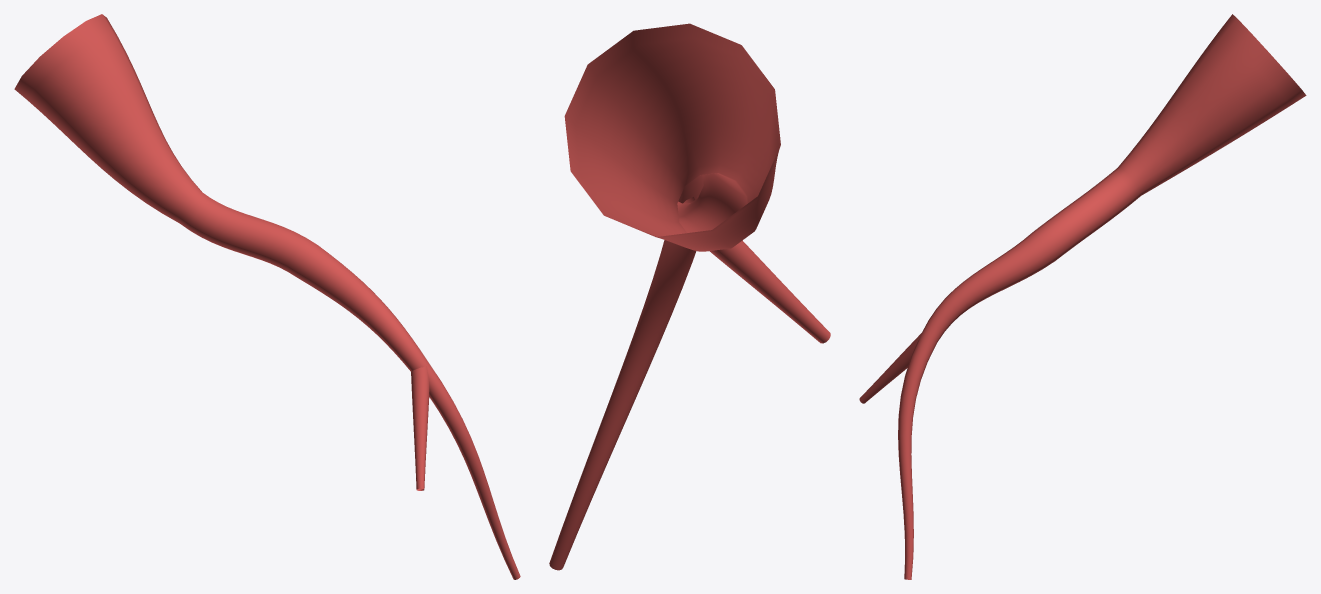
3 renders of one model, left to right at view 1: azimuth 30°, elevation 25°; view 2: azimuth 150°, elevation 25°; view 3: azimuth 270°, elevation 25°, orthographic. The views are drawn at different scales.
Visible parts, largest first — view 1: 胃左动脉; view 2: 胃左动脉; view 3: 胃左动脉.
Part boxes in pixels (bbox=[...]): 胃左动脉: bbox=[14, 14, 520, 579]; 胃左动脉: bbox=[549, 23, 830, 570]; 胃左动脉: bbox=[859, 14, 1306, 579].
Size of the model in its own units: 0.0266 by 0.0398 by 0.0359.
